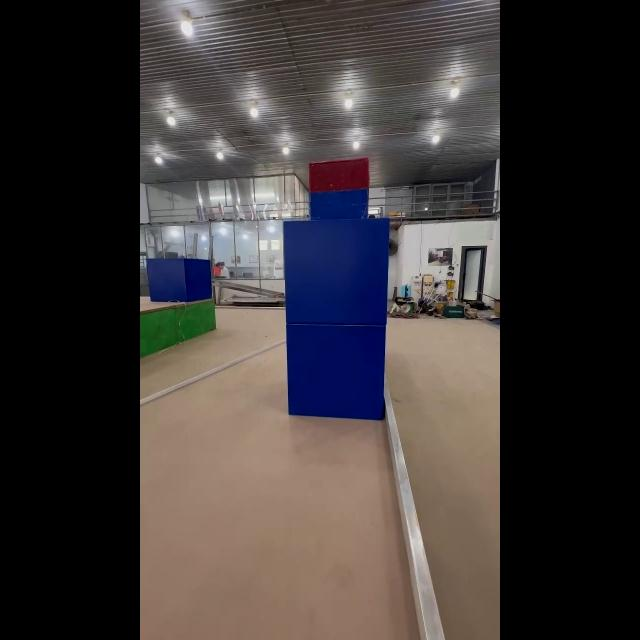sky_block: (306, 157, 369, 219)
